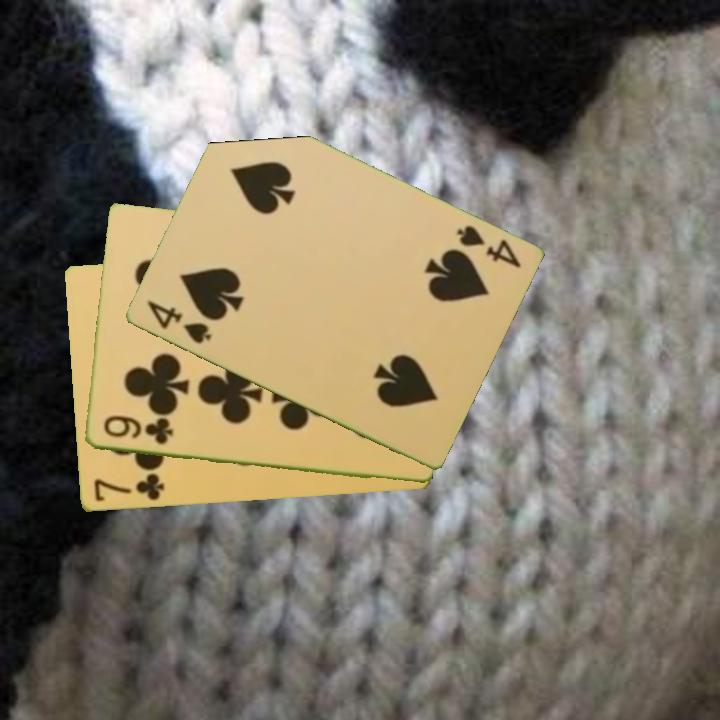4s: (142, 297, 214, 347), (452, 222, 523, 271)
7c: (90, 470, 167, 505)
9c: (99, 413, 175, 448)
